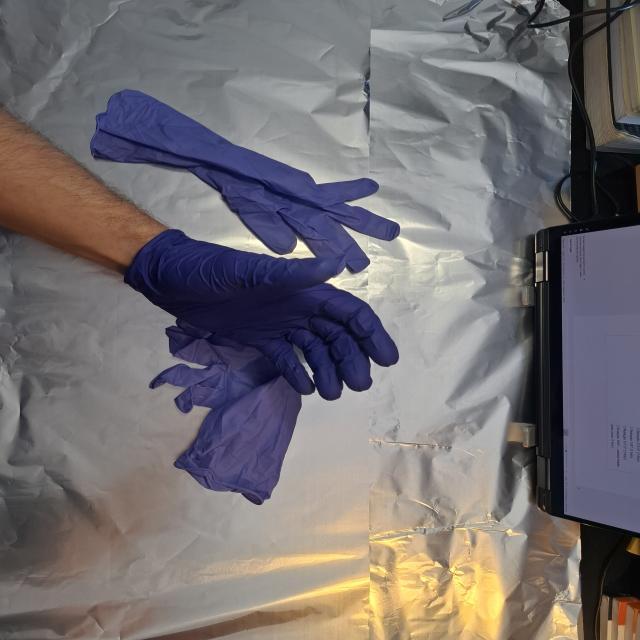glove_on: (125, 228, 402, 402)
